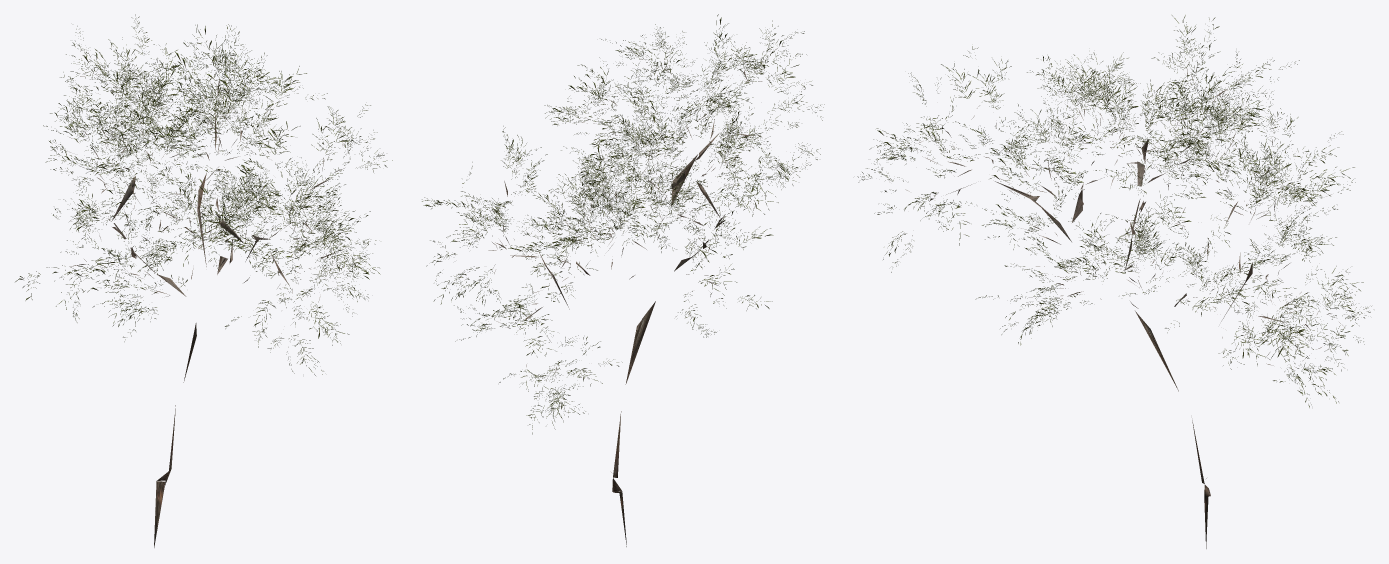
Rendered from tree_small_02.glb.
The picture shows the model from 3 angles, left to right: view 1: azimuth 30°, elevation 25°; view 2: azimuth 150°, elevation 25°; view 3: azimuth 270°, elevation 25°; orthographic projection. The views are drawn at different scales.
Parts seen in each view (by area): view 1: tree_small_02_LOD0; view 2: tree_small_02_LOD0; view 3: tree_small_02_LOD0.
Boxes of the visible parts, x1,y1,x2,y2 form: tree_small_02_LOD0: (15, 14, 392, 547); tree_small_02_LOD0: (422, 14, 824, 546); tree_small_02_LOD0: (857, 15, 1371, 548).
Size of the model in its own units: 2.87 by 4.5 by 4.27.
3 materials, 3 textured.
